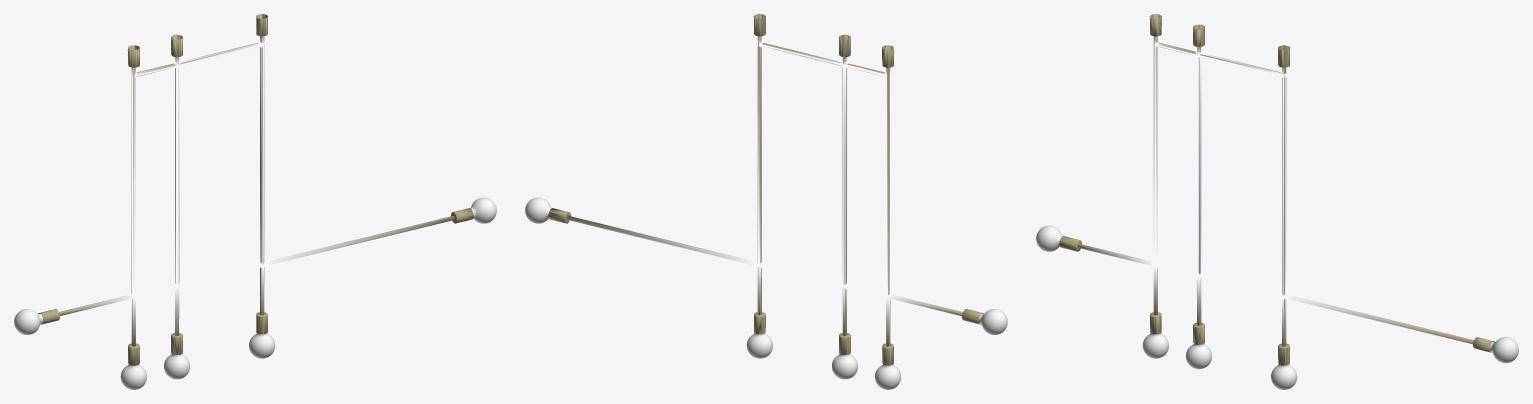
File: designconnected-big-kick-solid-pendant-10510.optimized.glb
The picture shows the model from 3 angles, left to right: view 1: azimuth 30°, elevation 25°; view 2: azimuth 150°, elevation 25°; view 3: azimuth 330°, elevation 25°; orthographic projection.
Parts seen in each view (by area): view 1: Volkerhaug_Big_Kick_Solid_mat1; view 2: Volkerhaug_Big_Kick_Solid_mat1; view 3: Volkerhaug_Big_Kick_Solid_mat1.
Part boxes in pixels (x1,y1,x2,y2): Volkerhaug_Big_Kick_Solid_mat1: [14, 14, 496, 389]; Volkerhaug_Big_Kick_Solid_mat1: [525, 14, 1007, 389]; Volkerhaug_Big_Kick_Solid_mat1: [1036, 14, 1518, 389].
Size of the model in its own units: 2 by 1.36 by 0.095.
